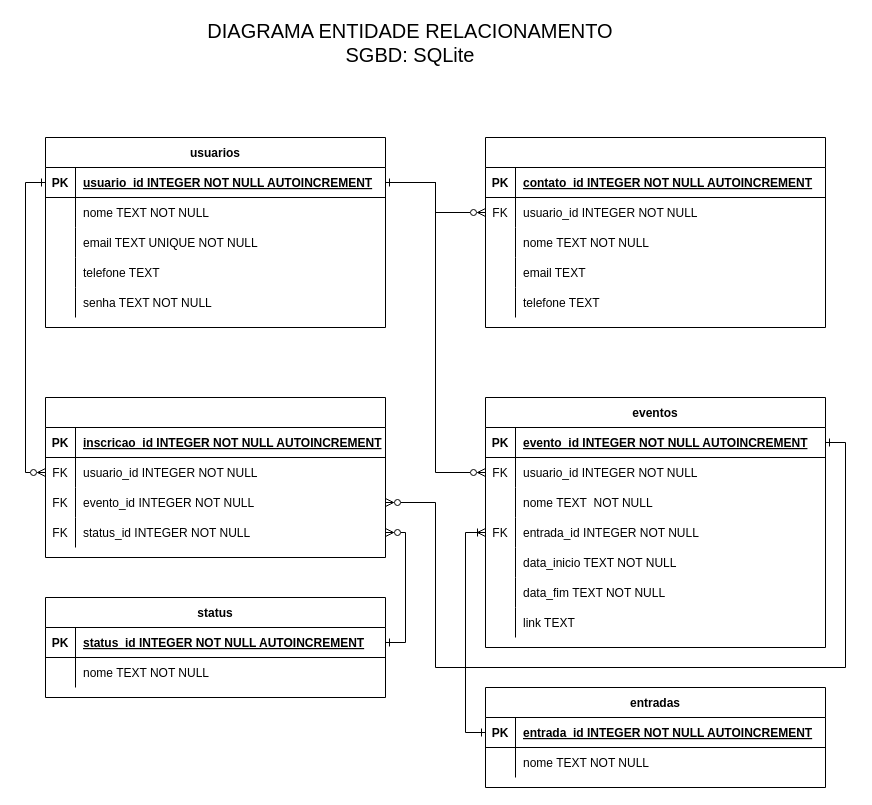
Some shapes in this 872 by 805 pixel diagram are drawn without their labels. Here are the shapes that lost their labels. From the top down, the box of each, then its label:
(484, 136, 826, 328): contatos
(44, 396, 386, 558): inscricoes
